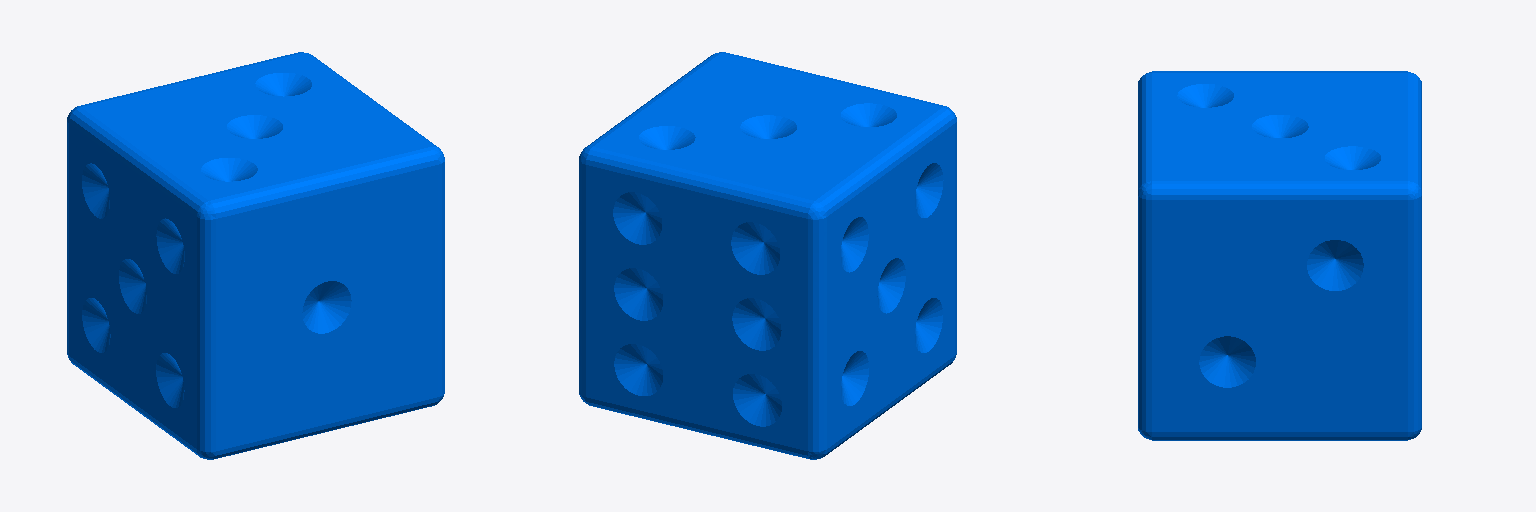
The model's file is BlueDice - Cópia.obj.
3 views of the same model, side by side, from view 1: azimuth 30°, elevation 25°; view 2: azimuth 150°, elevation 25°; view 3: azimuth 270°, elevation 25° (orthographic).
Visible parts, largest first — view 1: Dice__Box__Box; view 2: Dice__Box__Box; view 3: Dice__Box__Box.
Part boxes in pixels (x1,y1,x2,y2): Dice__Box__Box: (67,52,444,459); Dice__Box__Box: (579,52,956,459); Dice__Box__Box: (1138,71,1421,440).
Bounding box in the file's own units: 10 × 10 × 10.